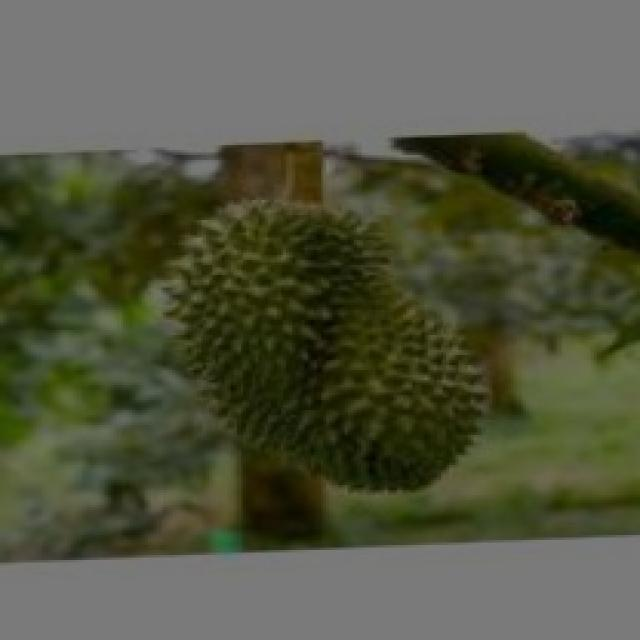fruit: (126, 160, 529, 522)
